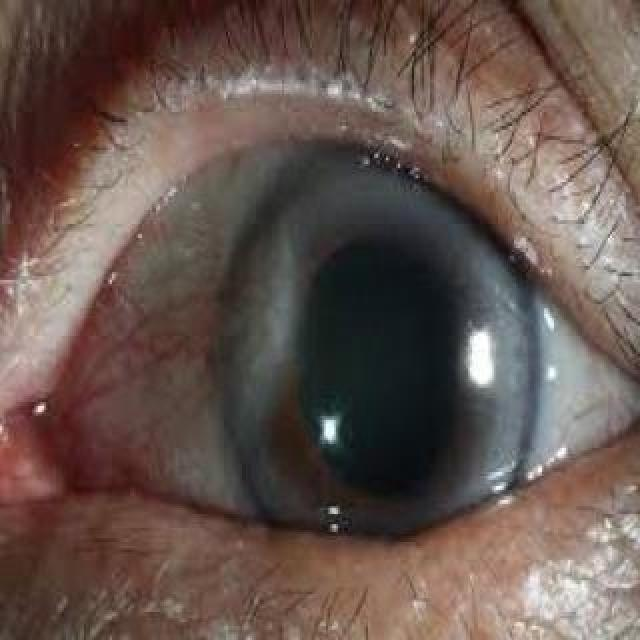Pterygium: (81, 178, 299, 514)
